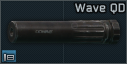Daniel Defense WAVE QD sound suppressor: (0, 0, 127, 64)
